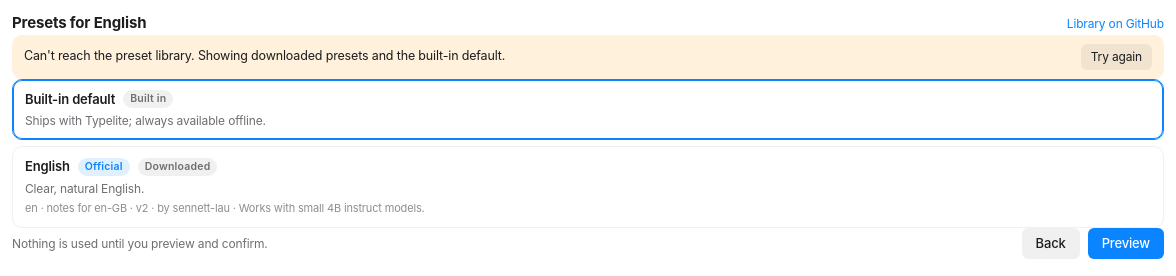
PresetBrowser › offline, shows a banner and tries again
The image size is (1176, 276).
Expected: the text "Can't reach the preset library. Showing downloaded presets and the built-in default." is shown, x1=24 y1=48 x2=505 y2=63
Click the button "Try again": (1116, 56) x1=1081 y1=44 x2=1152 y2=70
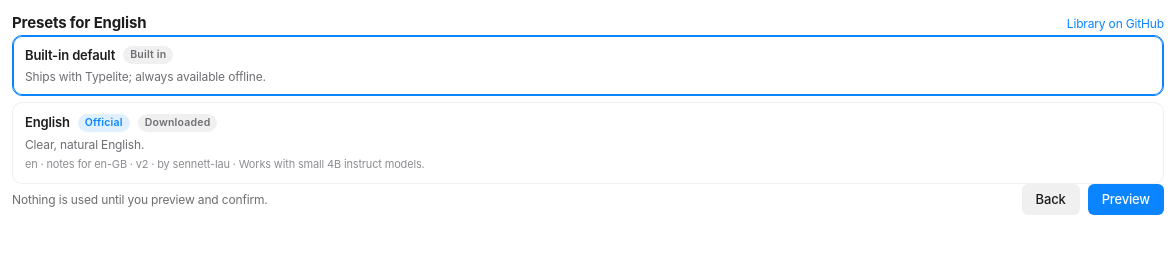
Expected: the text "Can't reach" is gone
